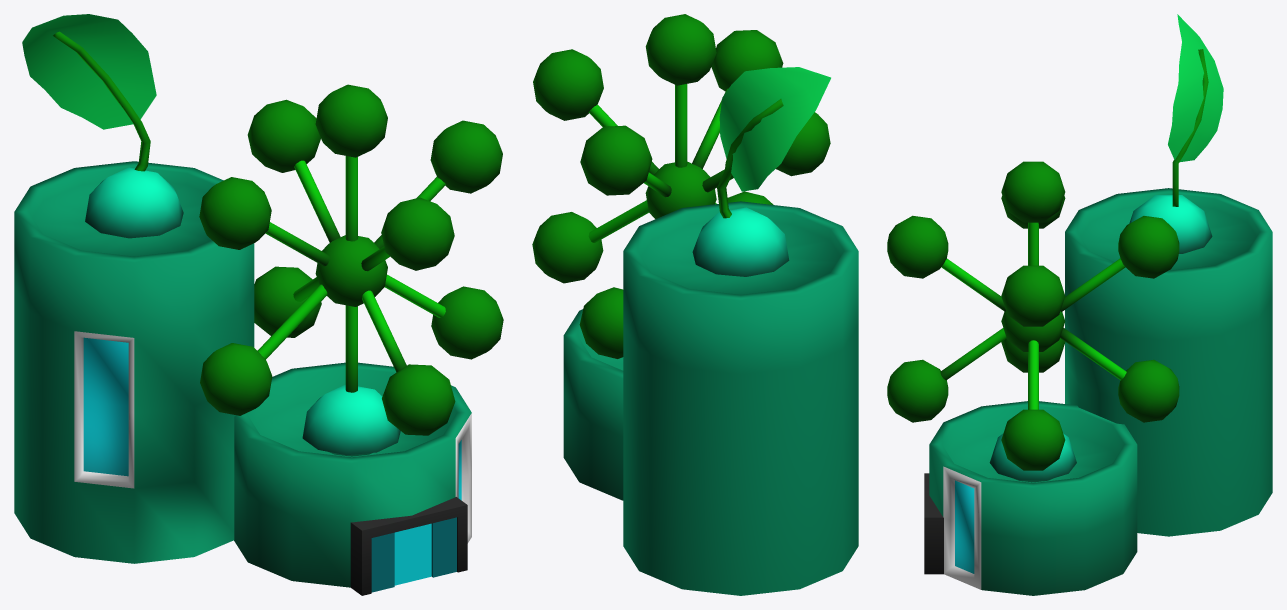
File: BiologyBuilding.fbx
The picture shows the model from 3 angles, left to right: view 1: azimuth 30°, elevation 25°; view 2: azimuth 150°, elevation 25°; view 3: azimuth 270°, elevation 25°; orthographic projection. The views are drawn at different scales.
Visible parts, largest first — view 1: Biology, AutomaticDoors, DoorL, DoorR; view 2: Biology; view 3: Biology, AutomaticDoors.
Boxes of the visible parts, left/top/right/bottom form: Biology: left=14, top=14, right=503, bottom=587; AutomaticDoors: left=350, top=497, right=467, bottom=595; DoorL: left=412, top=523, right=431, bottom=581; DoorR: left=394, top=528, right=412, bottom=585; Biology: left=532, top=14, right=858, bottom=595; Biology: left=887, top=14, right=1272, bottom=595; AutomaticDoors: left=924, top=473, right=943, bottom=574.
Size of the model in its own units: 812 by 1015 by 804.
1 material, 1 textured.
